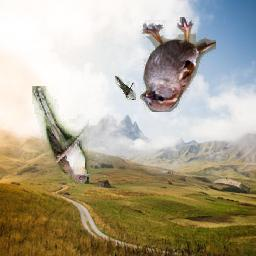Cuckoo: (33, 86, 90, 184), (115, 76, 137, 100)
Sparrow: (140, 18, 216, 113)
